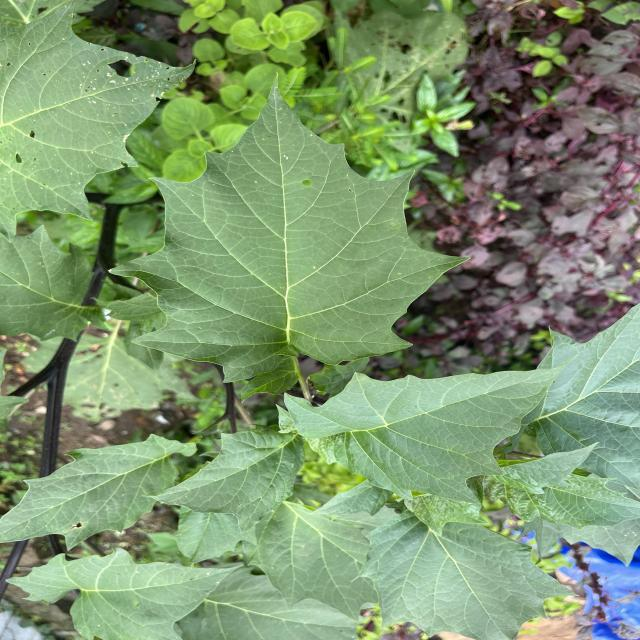Datura metal linn: (106, 69, 476, 390), (280, 352, 582, 508), (348, 515, 582, 640), (4, 545, 248, 640), (136, 429, 307, 537)
